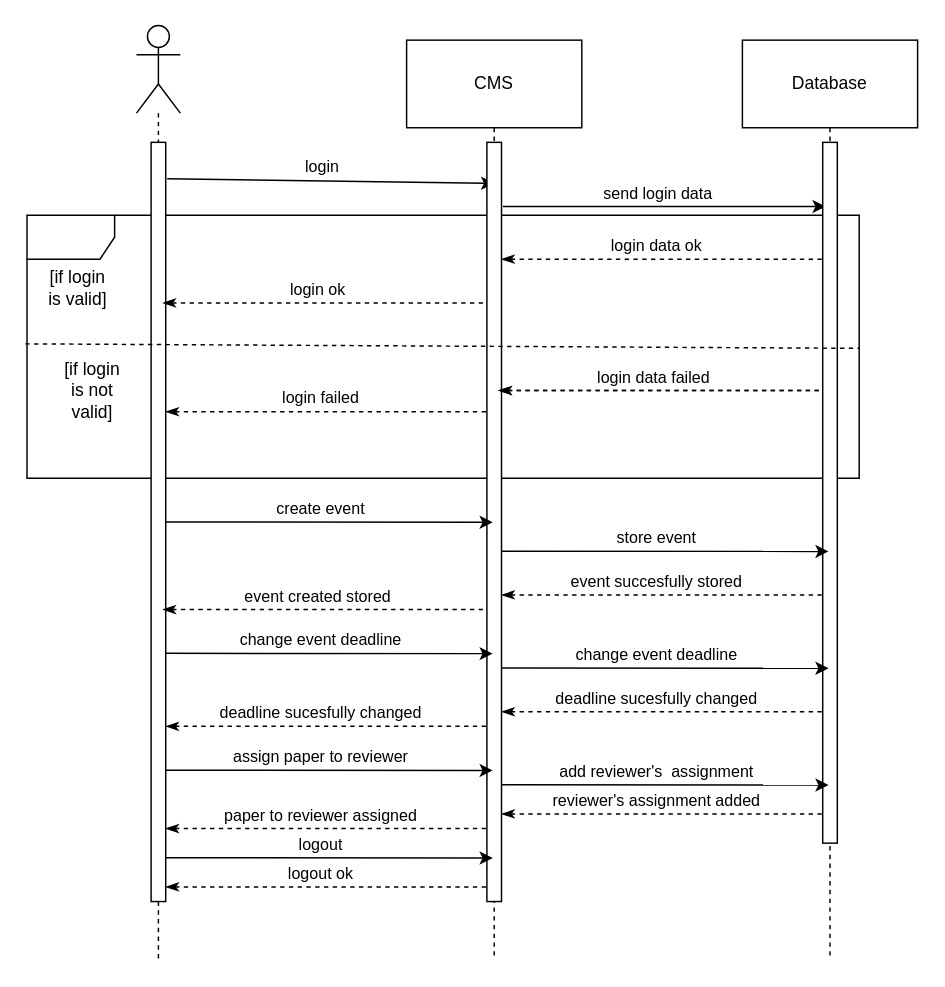
The diagram is 945 pixels wide and 987 high, and some of its shapes have lost their labels. Here are the shapes that lost their labels. From the top down, the box of each, then its label:
(135, 24, 180, 113): Chair or co-chair
(26, 214, 859, 478): alternative
